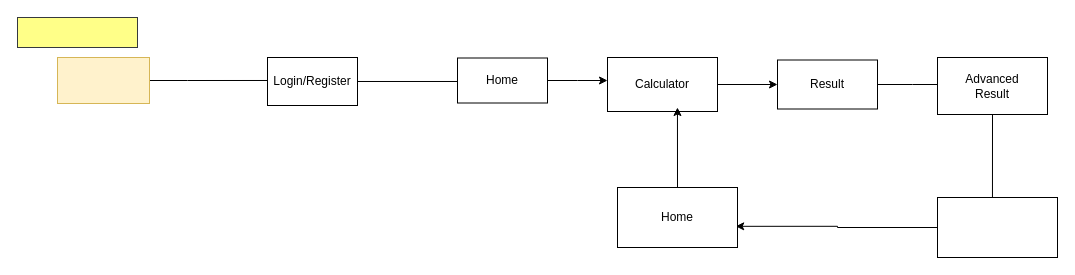
Some shapes in this 1075 by 275 pixel diagram are drawn without their labels. Each missing label, with the centre of its shape:
"Compare" belongs at (997,227).
"Landing" belongs at (103,80).
"routing" belongs at (77,32).
